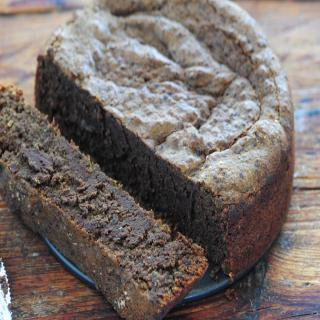Bread: (37, 0, 294, 284), (0, 83, 210, 320)
